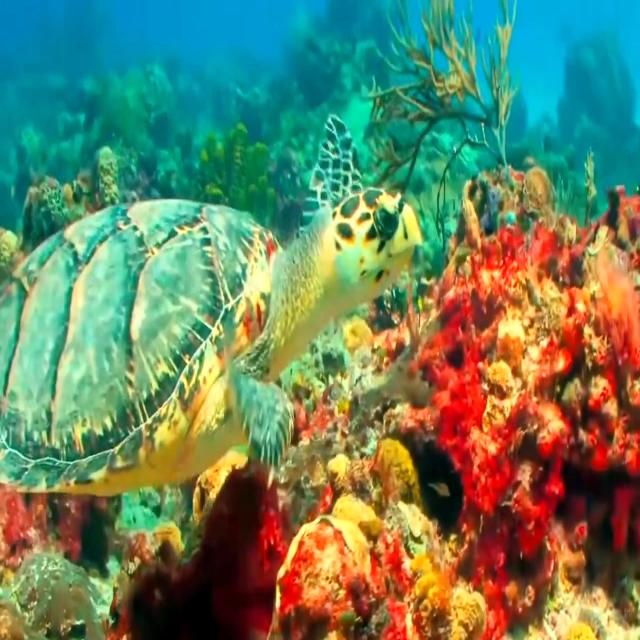Sea turtle: (0, 180, 426, 530)
